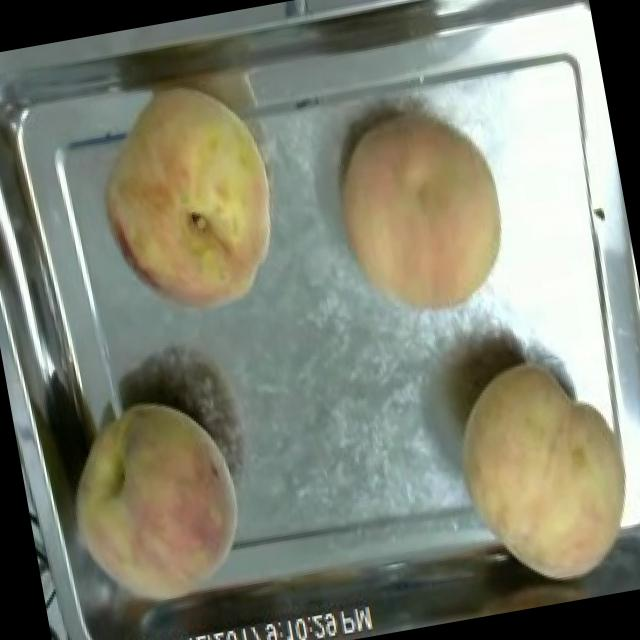Fruit: (76, 66, 301, 338), (39, 377, 264, 625), (434, 338, 640, 607), (314, 91, 528, 335)
